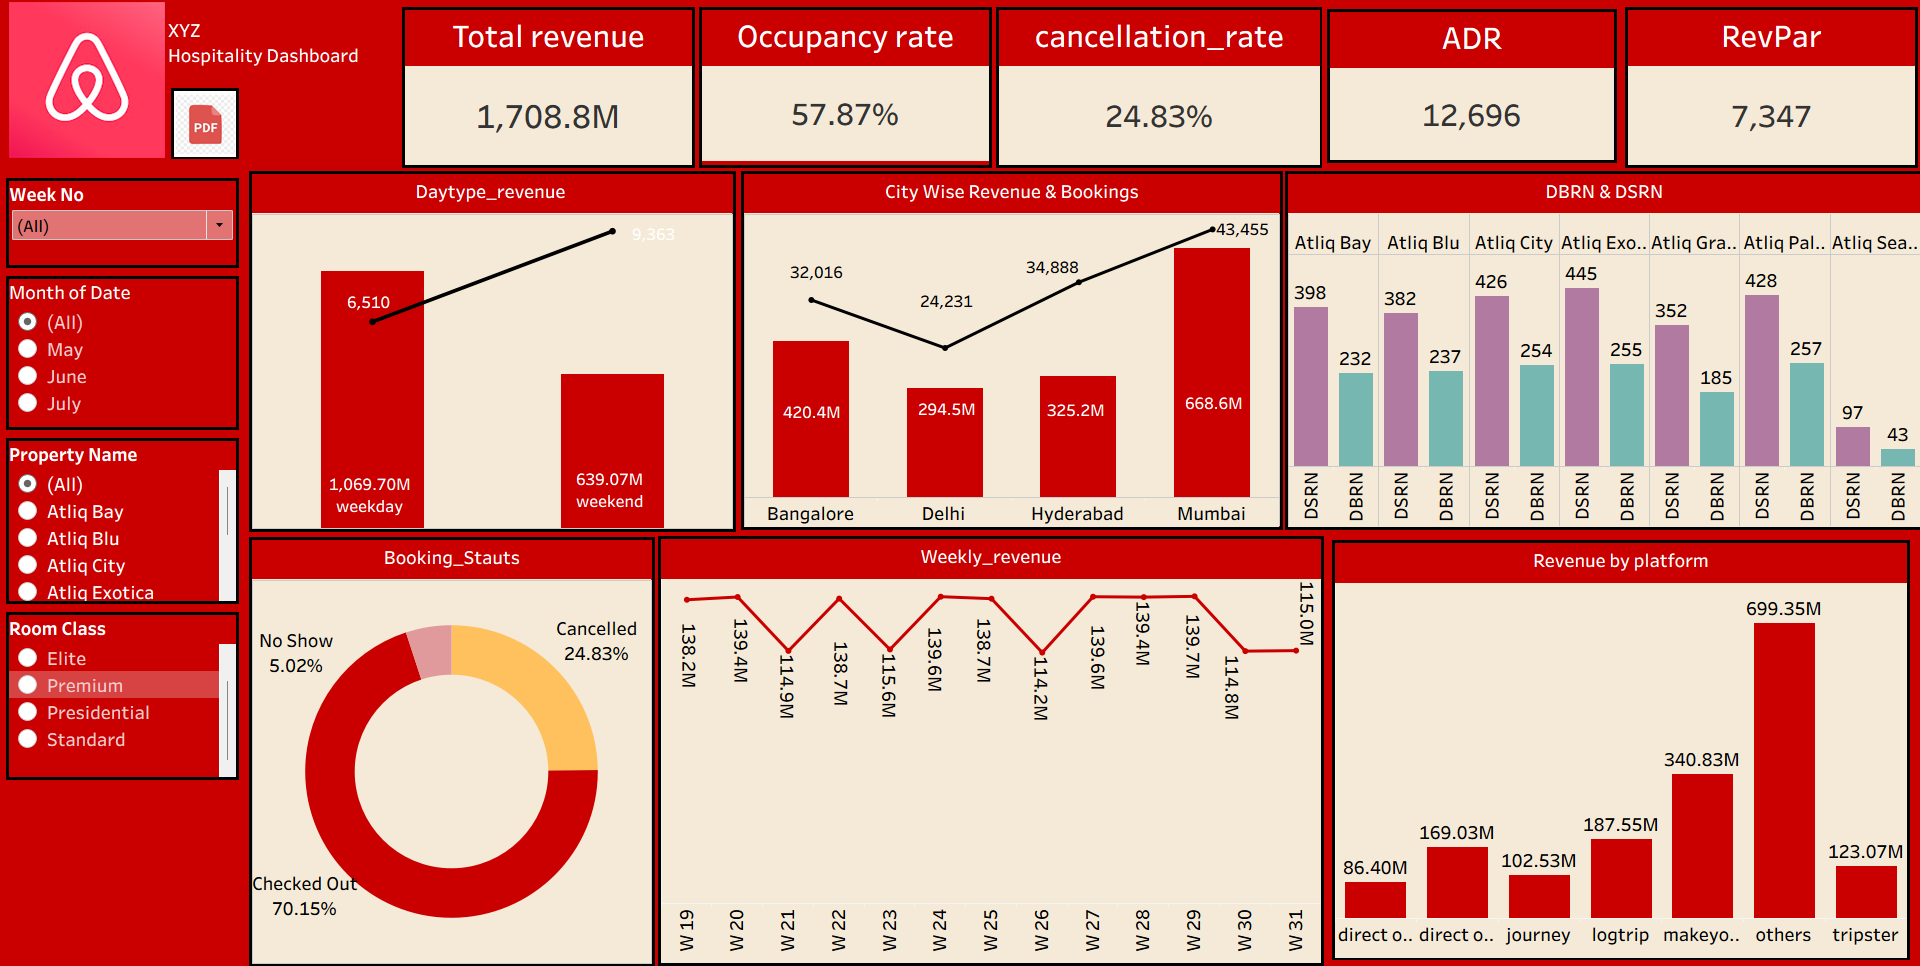

Layout of this report page (visuals, bound fields, positions):
{"tool":"tableau","page":{"name":"Dashboard 1","canvas":[1000,1000],"units":"permille","ordinal":0},"visuals":[{"type":"text","box":[85.4,8.6,127.8,79.5]},{"type":"worksheet","title":"Total revenue","mark":"Automatic","box":[209.1,11,152.6,165]},{"type":"worksheet","title":"Occupancy rate","mark":"Automatic","box":[364.2,11,152.6,165]},{"type":"worksheet","title":"cancellation_rate","mark":"Automatic","box":[518.6,11,170.1,165]},{"type":"worksheet","title":"RevPar","mark":"Automatic","box":[846.1,11,152.6,165]},{"type":"worksheet","title":"ADR","mark":"Automatic","box":[691.4,13.5,150.9,157.7]},{"type":"dashboard-object","box":[89.2,94.1,35.5,73.4]},{"type":"worksheet","title":"Daytype_revenue ","mark":"Bar","rows":["revenue_realized","Calculation_1442277782010314755"],"cols":["day_type"],"box":[129.8,179.7,253.6,370.4]},{"type":"worksheet","title":"city","mark":"Bar","rows":["revenue_realized","booking_id"],"cols":["city"],"box":[385.8,179.7,282.4,368]},{"type":"worksheet","title":"DBRN & DSRN","mark":"Automatic","cols":["property_name"],"box":[669.5,179.7,332.9,368]},{"type":"filter","title":"DBRN & DSRN","param":"[federated.1sbrult1icz9t316lgkwa0qi48bq].[none:week no:nk]","box":[1.2,182.2,125.6,119.8]},{"type":"filter","title":"Booking_Stauts","param":"[federated.1sbrult1icz9t316lgkwa0qi48bq].[mn:date:ok]","box":[1.2,301.9,125.6,198]},{"type":"filter","title":"city","param":"[federated.1sbrult1icz9t316lgkwa0qi48bq].[none:property_name:nk]","box":[1.2,500,125.6,212.7]},{"type":"worksheet","title":"Weekly_revenue","mark":"Line","rows":["revenue_realized"],"cols":["week no"],"box":[342.9,553.8,346.6,441.3]},{"type":"worksheet","title":"Booking_Stauts","mark":"Pie","rows":["Calculation_430938190961250305","Calculation_430938190961266691"],"box":[129.7,555,211.3,441.3]},{"type":"worksheet","title":"Revenue by platform","mark":"Bar","rows":["revenue_realized"],"cols":["booking_platform"],"box":[693.9,557.5,301.1,431.5]},{"type":"filter","title":"Booking_Stauts","param":"[federated.1sbrult1icz9t316lgkwa0qi48bq].[none:room_class:nk]","box":[1.2,712.7,125.6,215.2]}]}

Visuals, with their boxes on the dashboard's canvas, which has no fixed pixel size, in thousandths of its width and height (x1, y1, x2, y2). These are canvas units, not pixel positions in the 1920x966 screenshot, which may show the page scaled, cropped or inside an application window:
text: 85,9,213,88
"Total revenue" worksheet: 209,11,362,176
"Occupancy rate" worksheet: 364,11,517,176
"cancellation_rate" worksheet: 519,11,689,176
"RevPar" worksheet: 846,11,999,176
"ADR" worksheet: 691,14,842,171
dashboard-object: 89,94,125,168
"Daytype_revenue " worksheet (Bar marks): 130,180,383,550
"city" worksheet (Bar marks): 386,180,668,548
"DBRN & DSRN" worksheet: 670,180,1002,548
"DBRN & DSRN" filter: 1,182,127,302
"Booking_Stauts" filter: 1,302,127,500
"city" filter: 1,500,127,713
"Weekly_revenue" worksheet (Line marks): 343,554,690,995
"Booking_Stauts" worksheet (Pie marks): 130,555,341,996
"Revenue by platform" worksheet (Bar marks): 694,558,995,989
"Booking_Stauts" filter: 1,713,127,928
